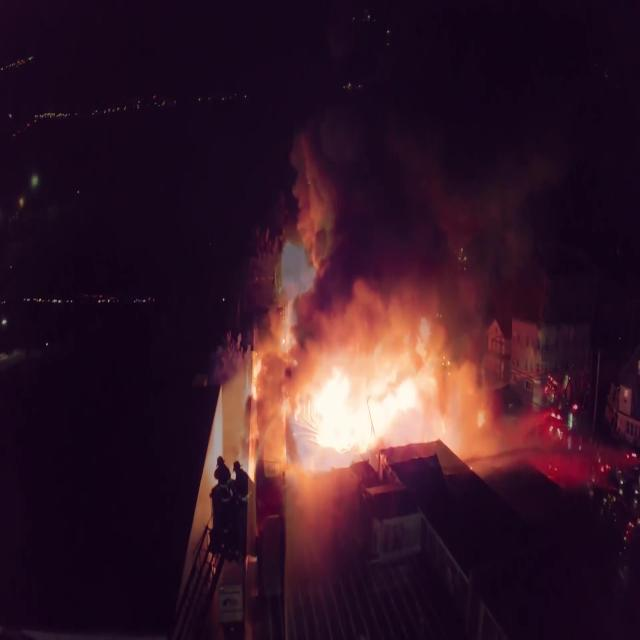Fire: (259, 321, 469, 461)
Smoke: (303, 23, 571, 300)
